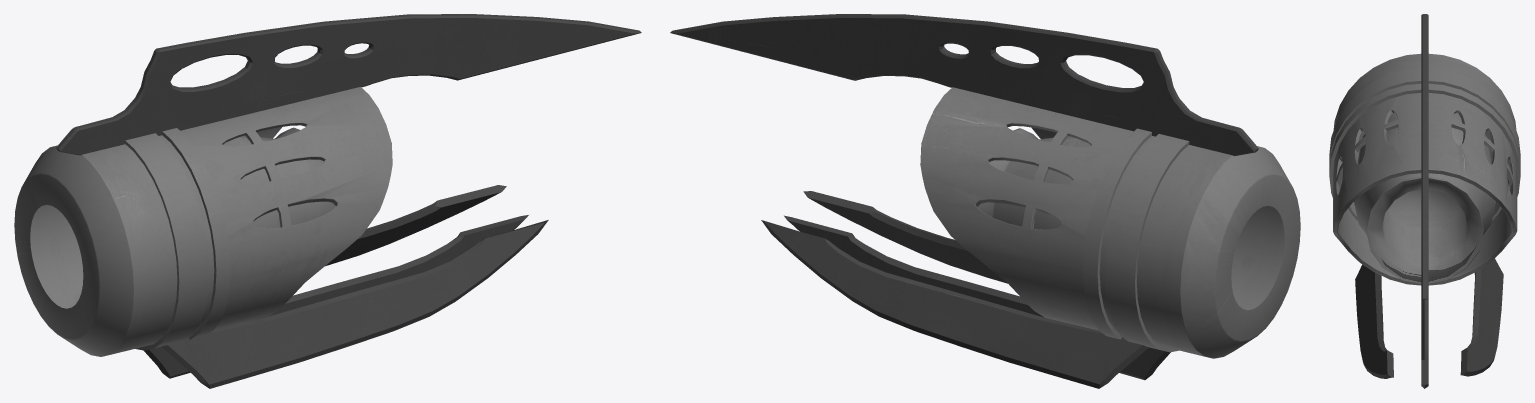
The model's file is guard_17_r_a.glb.
3 views of the same model, side by side, from view 1: azimuth 30°, elevation 25°; view 2: azimuth 150°, elevation 25°; view 3: azimuth 270°, elevation 25° (orthographic). The views are drawn at different scales.
Visible parts, largest first — view 1: guard_17_r_a_lod0; view 2: guard_17_r_a_lod0; view 3: guard_17_r_a_lod0.
Boxes of the visible parts, x1=… form: guard_17_r_a_lod0: x1=14, y1=14, x2=641, y2=388; guard_17_r_a_lod0: x1=670, y1=14, x2=1300, y2=388; guard_17_r_a_lod0: x1=1329, y1=14, x2=1520, y2=388.
Size of what is drawn, in the model's own units: 0.1042 by 0.0567 by 0.0348.
Materials: 1 (1 with a texture image).
